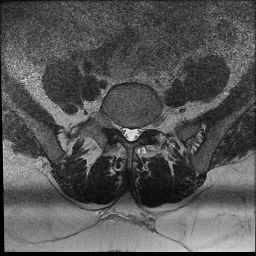CCS_stenosis: (128, 121, 134, 149)
LFS_stenosis: (141, 117, 148, 138)
LLS_normal: (134, 120, 141, 144)
RFS_stenosis: (114, 116, 120, 138)
RLS_normal: (121, 120, 128, 144)
